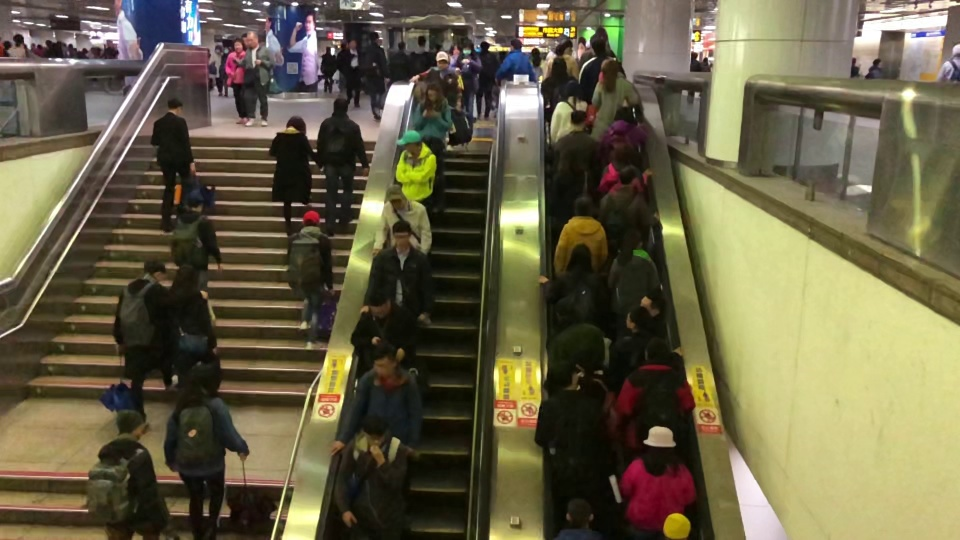person_head: (642, 423, 679, 470), (185, 361, 217, 399), (562, 497, 596, 529), (547, 358, 579, 390), (371, 340, 398, 377), (114, 408, 145, 440), (362, 413, 387, 452), (574, 344, 604, 376), (662, 510, 693, 539), (644, 335, 672, 365), (171, 265, 201, 291), (640, 289, 668, 316), (365, 290, 391, 319), (566, 243, 592, 272), (383, 183, 408, 211), (626, 305, 652, 331), (396, 130, 422, 155), (392, 220, 412, 252), (554, 295, 577, 322), (613, 104, 639, 127), (609, 142, 637, 163), (573, 193, 596, 218), (143, 259, 167, 282), (558, 149, 582, 171), (622, 228, 643, 252), (549, 56, 569, 80), (285, 114, 308, 134), (184, 191, 204, 213), (619, 165, 641, 185), (569, 110, 588, 132), (602, 58, 619, 82), (424, 81, 443, 102), (166, 95, 184, 116), (301, 210, 321, 228), (554, 39, 573, 57), (563, 79, 581, 98), (332, 96, 349, 115), (590, 38, 607, 57), (434, 50, 449, 70), (461, 39, 475, 56), (246, 30, 259, 48), (234, 37, 246, 53), (510, 37, 523, 51), (532, 45, 541, 64), (12, 33, 25, 46), (950, 43, 960, 58), (369, 30, 380, 43), (480, 40, 490, 52), (417, 34, 426, 47), (873, 56, 882, 68), (850, 53, 857, 66), (214, 44, 223, 54), (348, 39, 357, 49), (690, 50, 699, 60), (398, 40, 406, 51), (702, 55, 708, 64), (326, 46, 331, 53)
person_vbox: (111, 259, 209, 434), (164, 364, 249, 540), (534, 360, 611, 526), (79, 407, 174, 540), (326, 344, 421, 463), (331, 416, 422, 536), (359, 220, 427, 375), (615, 337, 695, 450), (618, 426, 697, 539), (371, 185, 434, 324), (537, 241, 610, 347), (316, 97, 370, 237), (167, 263, 223, 388), (287, 209, 335, 349), (610, 305, 684, 395), (151, 94, 197, 232), (351, 286, 417, 374), (271, 113, 318, 236), (166, 190, 222, 291), (409, 50, 465, 150), (410, 82, 453, 212), (598, 166, 658, 259), (573, 342, 623, 450), (606, 228, 662, 320), (546, 296, 606, 379), (554, 195, 608, 277), (589, 59, 640, 144), (233, 30, 276, 126), (550, 148, 600, 228), (394, 128, 436, 220), (551, 110, 599, 185), (595, 143, 654, 197), (579, 39, 627, 104), (551, 80, 590, 150), (450, 39, 482, 122), (596, 106, 649, 156), (362, 31, 391, 122), (553, 497, 612, 540), (541, 56, 579, 121), (224, 38, 250, 124), (475, 40, 500, 122), (494, 36, 536, 83), (337, 38, 365, 107), (543, 39, 579, 84), (408, 34, 437, 79), (389, 39, 412, 84), (936, 42, 960, 82), (207, 45, 224, 95), (320, 43, 337, 93), (687, 49, 701, 106), (7, 33, 30, 58), (529, 48, 544, 83), (865, 54, 885, 80), (849, 55, 861, 79), (700, 53, 712, 74)
